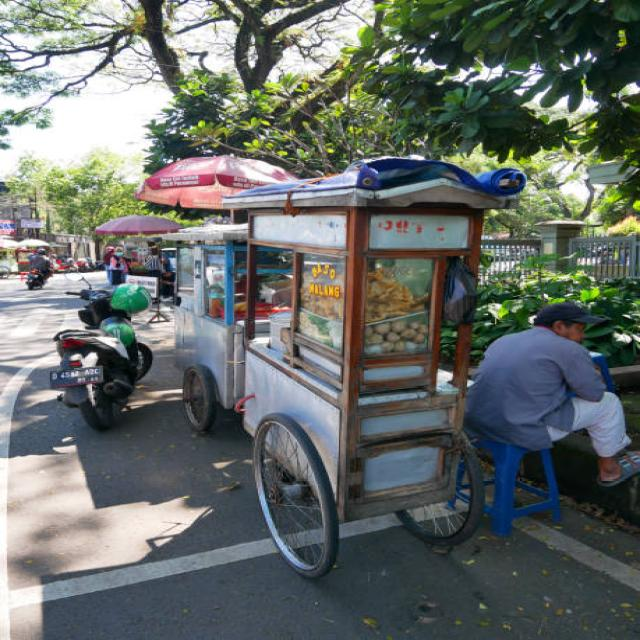Emperan: (202, 123, 540, 586)
